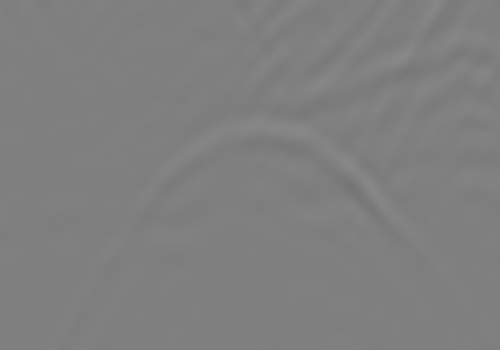hyperbola: (75, 118, 474, 344)
